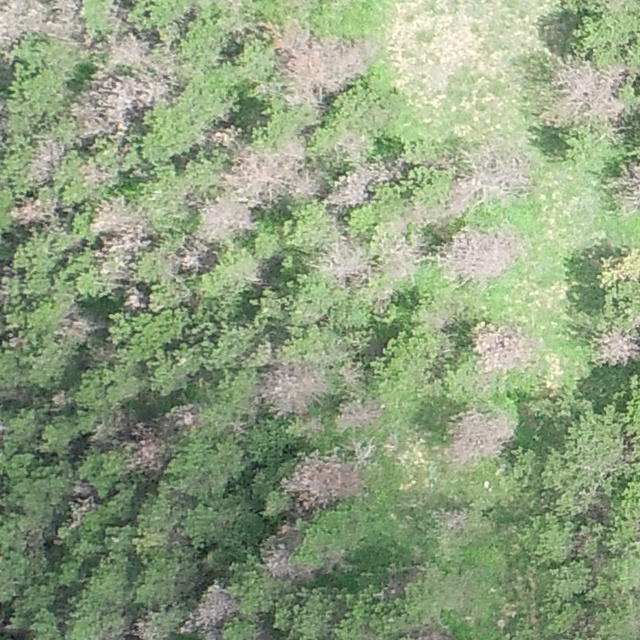unhealthy: (272, 26, 371, 100), (73, 71, 167, 136), (225, 145, 306, 205), (283, 450, 361, 510), (554, 60, 626, 122), (445, 226, 523, 281), (258, 358, 326, 416), (446, 409, 514, 466), (459, 141, 529, 192), (92, 197, 152, 254), (326, 161, 399, 207), (472, 323, 536, 373), (187, 583, 237, 632), (195, 197, 253, 238), (320, 242, 371, 285), (85, 405, 130, 446), (383, 234, 425, 276), (594, 328, 640, 366), (0, 0, 37, 46), (29, 135, 66, 180), (335, 399, 384, 431), (261, 539, 298, 581), (128, 434, 167, 473), (176, 236, 214, 271), (45, 0, 81, 36), (615, 160, 640, 211), (161, 403, 203, 433), (106, 32, 146, 63), (446, 178, 478, 213), (11, 196, 47, 226), (57, 314, 95, 342), (288, 169, 324, 198), (403, 620, 455, 640), (79, 159, 117, 185), (333, 131, 367, 160), (130, 615, 165, 640), (207, 123, 242, 147), (276, 134, 307, 161), (102, 3, 129, 31), (67, 479, 96, 504), (122, 284, 145, 312), (439, 509, 468, 531), (340, 362, 363, 389), (51, 390, 71, 410)
